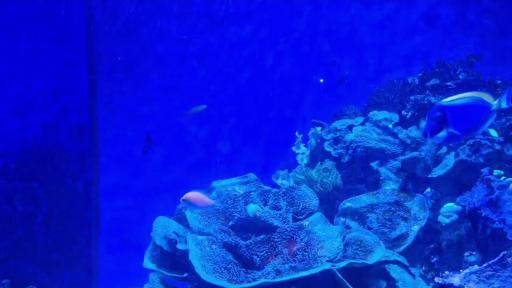Fish: (423, 88, 511, 143)
